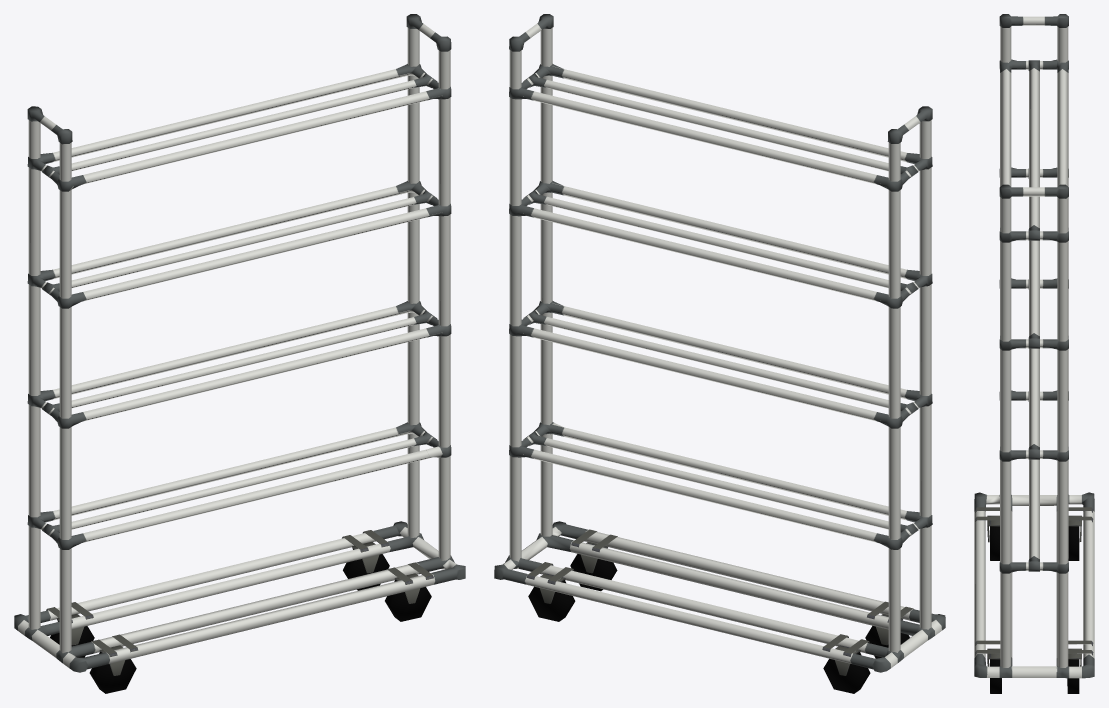
File: ShuangJiaZiChe.FBX
3 views of the same model, side by side, from view 1: azimuth 30°, elevation 25°; view 2: azimuth 150°, elevation 25°; view 3: azimuth 270°, elevation 25° (orthographic). The views are drawn at different scales.
Visible parts, largest first — view 1: YF_Model_ShuangJiaZiChe; view 2: YF_Model_ShuangJiaZiChe; view 3: YF_Model_ShuangJiaZiChe.
Part boxes in pixels (x1,y1,x2,y2): YF_Model_ShuangJiaZiChe: [14, 14, 465, 693]; YF_Model_ShuangJiaZiChe: [494, 14, 945, 693]; YF_Model_ShuangJiaZiChe: [974, 14, 1094, 693].
Size of the model in its own units: 129 by 177 by 36.92.
1 material, 1 textured.
